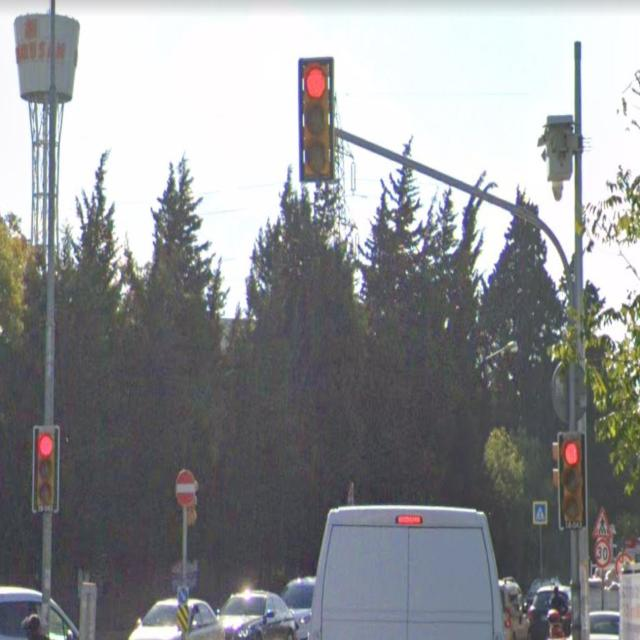30: (594, 537, 611, 569)
girisyok: (176, 470, 194, 506)
kirmizi: (298, 58, 334, 179), (559, 432, 588, 531), (33, 425, 59, 513)
